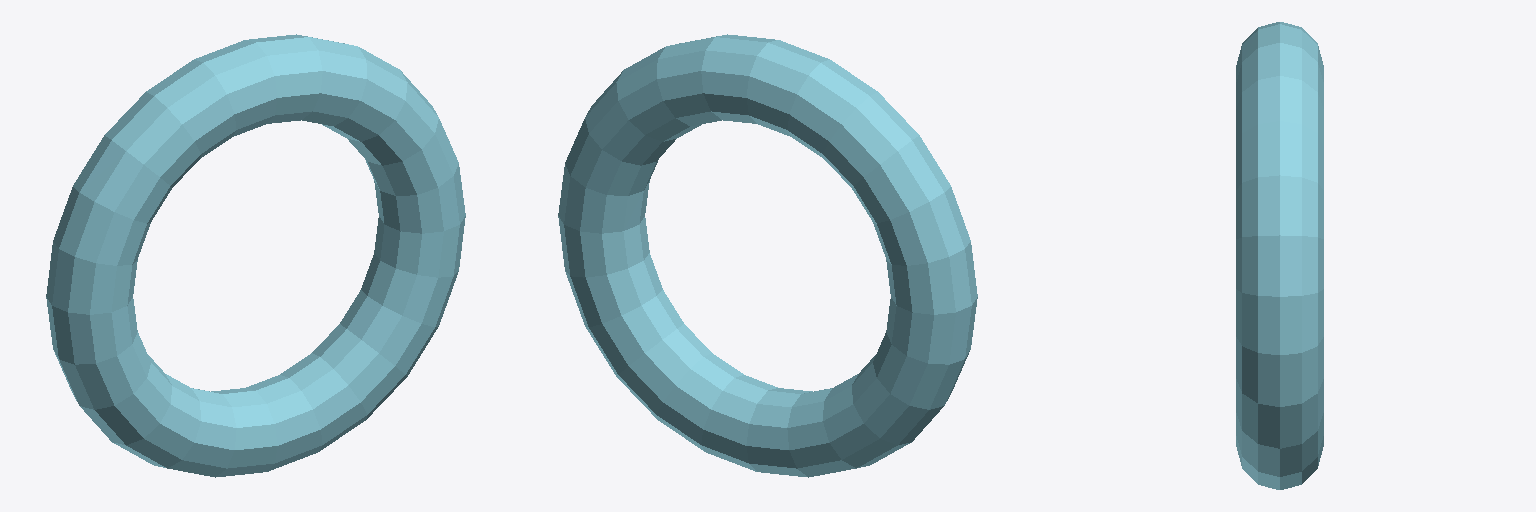
File: Token.obj
3 views of the same model, side by side, from view 1: azimuth 30°, elevation 25°; view 2: azimuth 150°, elevation 25°; view 3: azimuth 270°, elevation 25° (orthographic).
Parts seen in each view (by area): view 1: Torus001; view 2: Torus001; view 3: Torus001.
Part boxes in pixels (left/top/right/bottom): Torus001: left=46, top=34, right=465, bottom=477; Torus001: left=558, top=34, right=977, bottom=477; Torus001: left=1236, top=22, right=1323, bottom=489.
Size of the model in its own units: 5.09 by 5.09 by 0.9409.